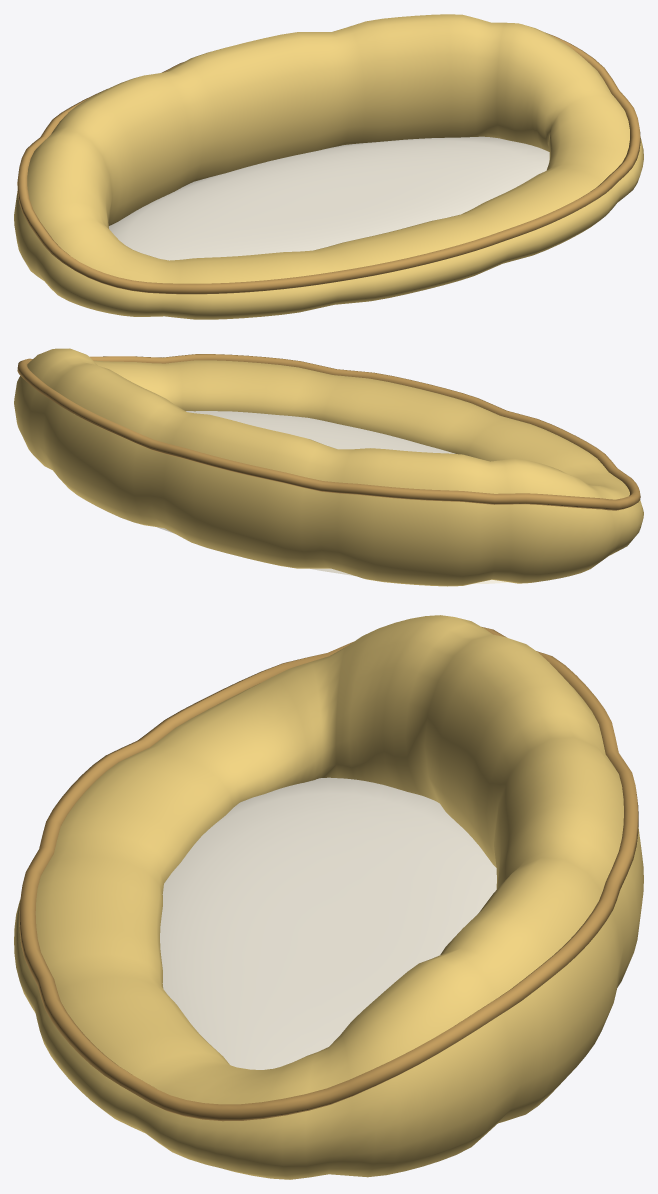
The model's file is bed.glb.
The picture shows the model from 3 angles, top to bottom: view 1: azimuth 30°, elevation 25°; view 2: azimuth 150°, elevation 25°; view 3: azimuth 270°, elevation 25°; orthographic projection. The views are drawn at different scales.
Visible parts, largest first — view 1: Bed; view 2: Bed; view 3: Bed.
Boxes of the visible parts, x1,y1,x2,y2 form: Bed: [14, 14, 643, 319]; Bed: [14, 348, 643, 586]; Bed: [14, 615, 643, 1179].
Bounding box in the file's own units: 2.02 × 0.4168 × 1.2.
